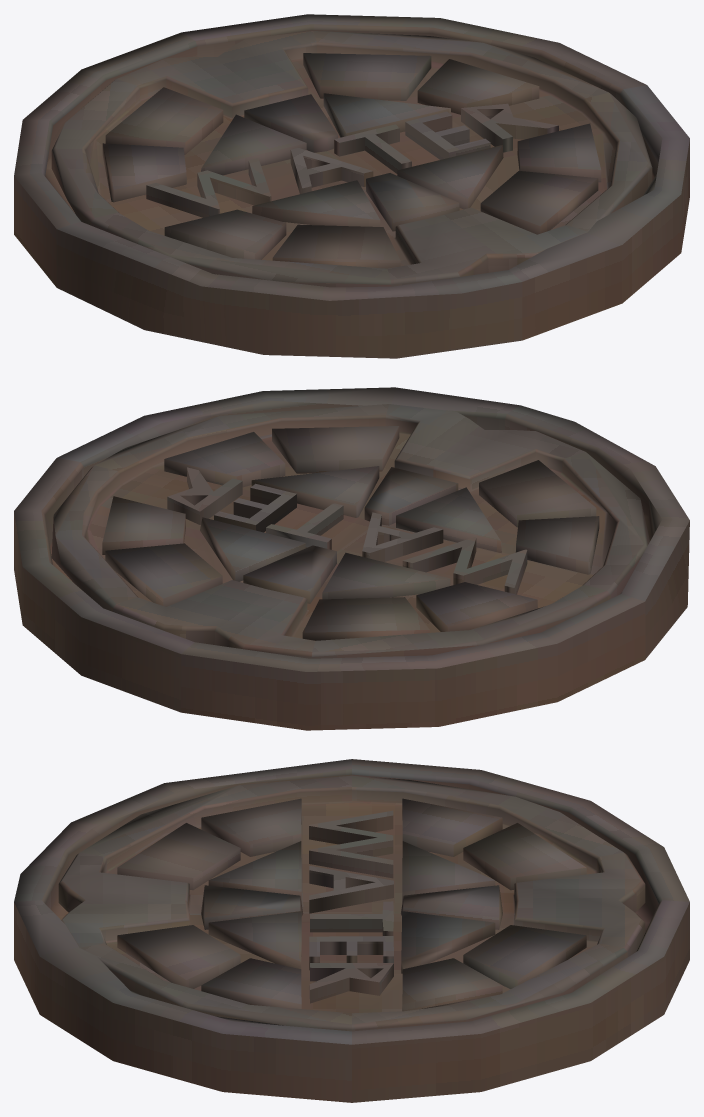
Rendered from water_manhole_cover.glb.
3 views of the same model, one above another, from view 1: azimuth 30°, elevation 25°; view 2: azimuth 150°, elevation 25°; view 3: azimuth 270°, elevation 25° (orthographic).
Visible parts, largest first — view 1: water_manhole_cover, water_manhole_cover_frame; view 2: water_manhole_cover, water_manhole_cover_frame; view 3: water_manhole_cover, water_manhole_cover_frame.
Boxes of the visible parts, left/top/right/bottom form: water_manhole_cover: left=51, top=31, right=652, bottom=287; water_manhole_cover_frame: left=14, top=14, right=689, bottom=358; water_manhole_cover: left=51, top=404, right=649, bottom=658; water_manhole_cover_frame: left=14, top=387, right=689, bottom=730; water_manhole_cover: left=58, top=775, right=645, bottom=1031; water_manhole_cover_frame: left=14, top=759, right=689, bottom=1102.
Bounding box in the file's own units: 0.6908 × 0.0676 × 0.6908.
Materials: 1 (1 with a texture image).
